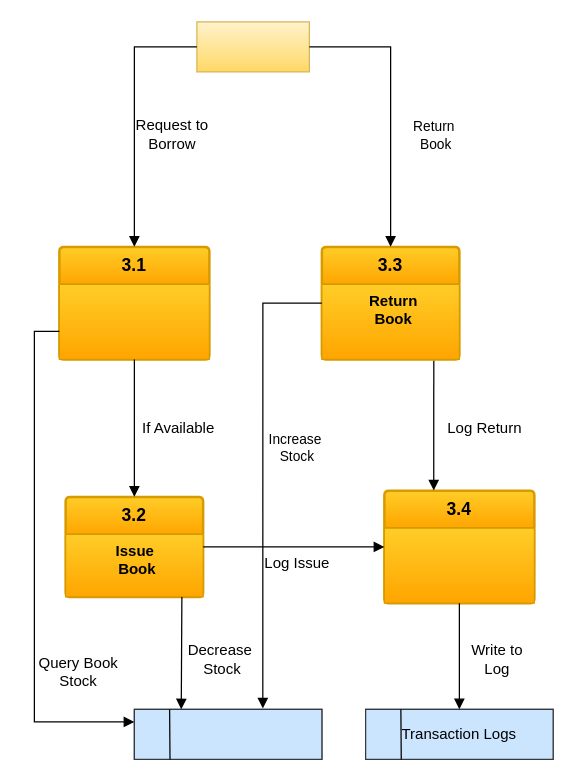
The diagram is 575 pixels wide and 784 high, and some of its shapes have lost their labels. The shapes that lost their labels are listed below. From the top down, each one's box as (x1, y1, x2, y2) in pixels, then its label:
(196, 21, 309, 72): User
(58, 283, 209, 359): Check Book Availability
(383, 527, 534, 603): Updating Borrowing Log
(133, 708, 322, 759): Book Inventory
